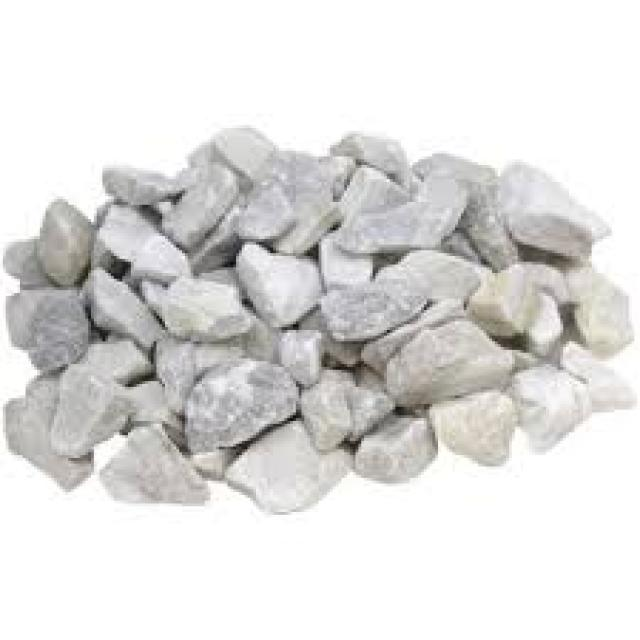Metamorphic: (8, 114, 634, 512)
